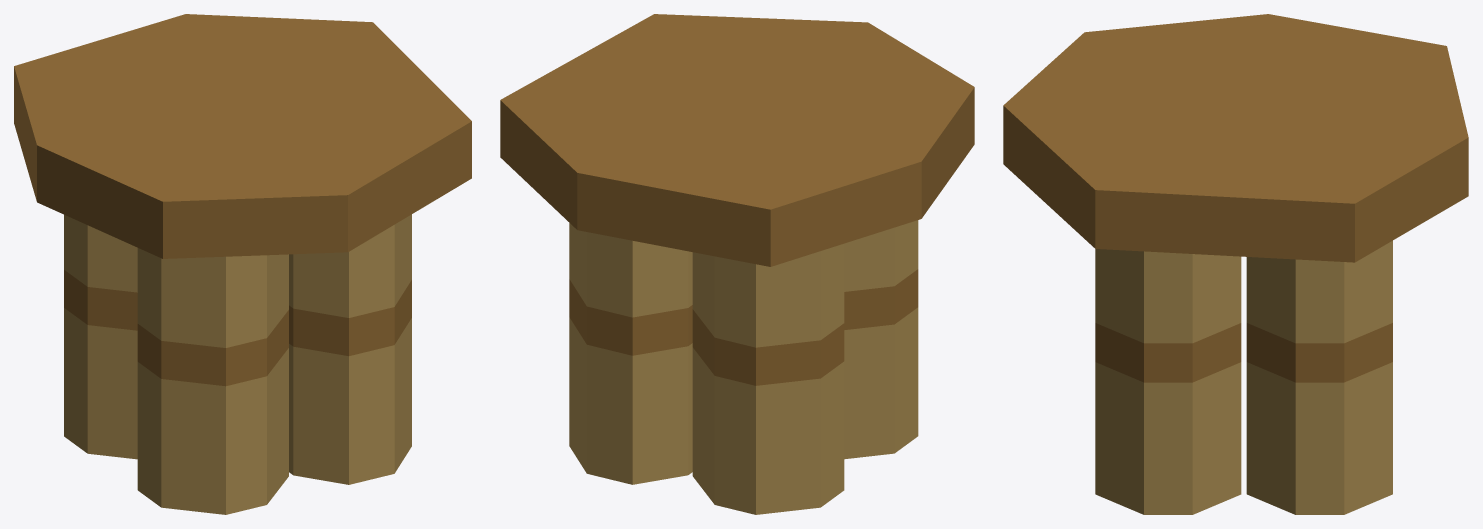
File: obj_stool_0.obj
3 views of the same model, side by side, from view 1: azimuth 30°, elevation 25°; view 2: azimuth 150°, elevation 25°; view 3: azimuth 270°, elevation 25° (orthographic). The views are drawn at different scales.
Size of the model in its own units: 0.6484 by 0.5469 by 0.6719.
